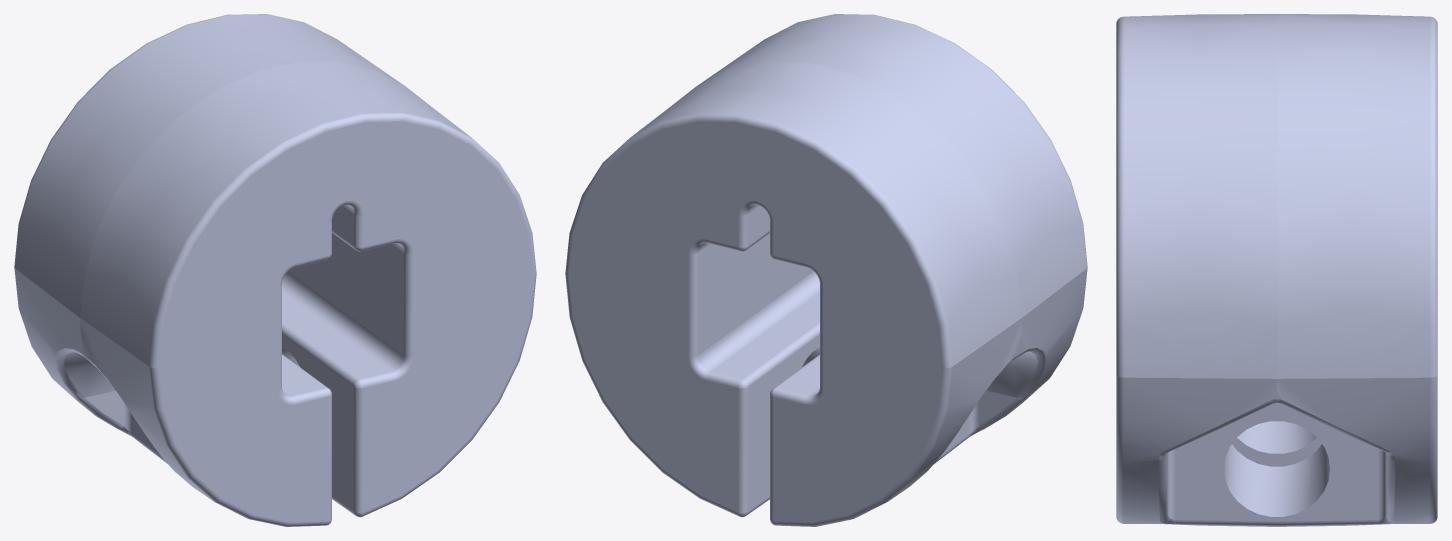
3 views of the same model, side by side, from view 1: azimuth 30°, elevation 25°; view 2: azimuth 150°, elevation 25°; view 3: azimuth 270°, elevation 25° (orthographic). The views are drawn at different scales.
Parts seen in each view (by area): view 1: 276-3520-001 Rev2; view 2: 276-3520-001 Rev2; view 3: 276-3520-001 Rev2.
Boxes of the visible parts, x1,y1,x2,y2 form: 276-3520-001 Rev2: (14,14,536,526); 276-3520-001 Rev2: (565,14,1087,526); 276-3520-001 Rev2: (1116,14,1437,526).
Bounding box in the file's own units: 20.32 × 20.22 × 12.7.
